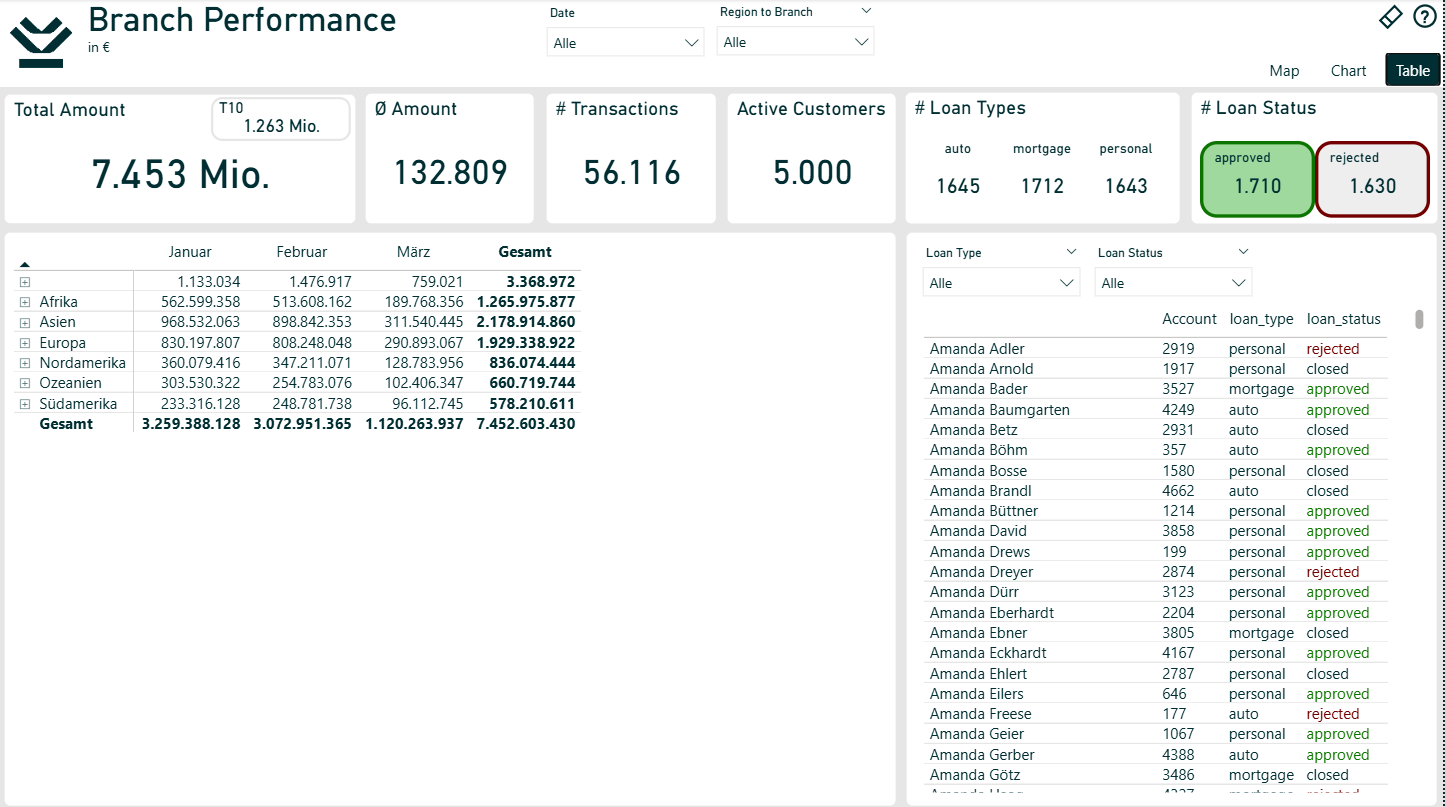

What the dashboard file says about the page in this screenshot:
{"tool":"powerbi","page":{"name":"Branch Performance","canvas":[1280,720],"ordinal":0},"visuals":[{"type":"textbox","box":[800.2,202.5,479.8,517.6],"z":0},{"type":"textbox","title":"Branch Performance","box":[73.6,0,1206.8,78],"z":1000},{"type":"actionButton","box":[1219.4,1,30.3,30.3],"z":2000},{"type":"slicer","fields":{"Values":["Date.Year","Date.Month"]},"box":[480.5,1,150.4,54.5],"z":3000},{"type":"slicer","fields":{"Values":["dim_branches.region","dim_branches.country","dim_branches.city","dim_branches.branch"]},"box":[630.9,0,150.4,55.5],"z":4000},{"type":"card","title":"Total Amount","fields":{"Values":["Sum(stg_transactions.Total Amount EUR)"]},"box":[0,80.1,320.5,124.3],"z":5000},{"type":"card","title":"# Transactions","fields":{"Values":["stg_transactions.TRACount"]},"box":[480.8,79.1,160.3,125.3],"z":6000},{"type":"card","title":"Ø Amount","fields":{"Values":["stg_transactions.AVG_TRA"]},"box":[320.5,79.1,159.2,125.3],"z":7000},{"type":"card","title":"Active Customers","fields":{"Values":["CountNonNull(stg_customers.customer_id)"]},"box":[641,79.1,159.2,125.3],"z":8000},{"type":"tableEx","title":"Branch Comparison","fields":{"Values":["dim_customers.customer","dim_accounts.account_id","dim_loans.loan_type","dim_loans.loan_status"]},"box":[813.8,269.2,454.9,439.4],"z":11000},{"type":"bookmarkNavigator","box":[1116.2,48,163.8,29.9],"z":12000},{"type":"textbox","title":"# Loan Types","box":[799.2,78,253,125.9],"z":12500,"group":"g1"},{"type":"card","title":"personal","fields":{"Values":["dim_loans.LoanTypeAuto"]},"box":[962.2,125.8,74.5,68],"z":13000,"group":"g1"},{"type":"pivotTable","title":"Time Trend","fields":{"Values":["Sum(stg_transactions.Total Amount EUR)"],"Columns":["dim_date.Month"],"Rows":["dim_branches.region","dim_branches.branch","stg_customers.customer","stg_transactions.account_id"]},"box":[0,202.5,800.2,517.6],"z":13000},{"type":"card","title":"auto","fields":{"Values":["dim_loans.LoanTypeAuto"]},"box":[813.3,125.8,74.5,68],"z":14000,"group":"g1"},{"type":"textbox","title":"# Loan Status","box":[1052.2,78,227.8,125.9],"z":14000},{"type":"card","title":"mortgage","fields":{"Values":["dim_loans.LoanTypeAuto"]},"box":[887.7,125.8,74.5,68],"z":15000,"group":"g1"},{"type":"card","title":"approved","fields":{"Values":["CountNonNull(dim_loans.loan_status)"]},"box":[1064.8,125.9,101.9,68],"z":15000},{"type":"group","id":"g1","title":"Gruppe 1","box":[799.2,78,253,125.9],"z":16000},{"type":"card","title":"rejected","fields":{"Values":["CountNonNull(dim_loans.loan_status)"]},"box":[1166.7,125.9,101.9,68],"z":17000},{"type":"image","box":[0,0,73.6,78],"z":18000},{"type":"card","title":"T10","fields":{"Values":["Sum(stg_transactions.Total Amount EUR)"]},"box":[188.2,86.9,124.4,38.5],"z":19000},{"type":"actionButton","box":[1249.7,0,30.3,30.3],"z":21000},{"type":"slicer","fields":{"Values":["dim_loans.loan_type"]},"box":[813.8,213.5,149.6,55.7],"z":22000},{"type":"slicer","fields":{"Values":["dim_loans.loan_status"]},"box":[966.4,213.5,149.6,55.7],"z":23000}]}

Visuals, with their boxes in screenshot pixels (x1, y1, x2, y2), scaled from the page's 1280x720 canvas onto the 1445x807 screenshot:
textbox: rect(903, 227, 1444, 806)
"Branch Performance" textbox: rect(83, 0, 1444, 87)
actionButton: rect(1377, 1, 1411, 35)
slicer - Date.Year x Date.Month: rect(542, 1, 712, 62)
slicer - dim_branches.region x dim_branches.country: rect(712, 0, 882, 62)
"Total Amount" card: rect(0, 90, 362, 229)
"# Transactions" card: rect(543, 89, 724, 229)
"Ø Amount" card: rect(362, 89, 542, 229)
"Active Customers" card: rect(724, 89, 903, 229)
"Branch Comparison" tableEx: rect(919, 302, 1432, 794)
bookmarkNavigator: rect(1260, 54, 1444, 87)
"# Loan Types" textbox: rect(902, 87, 1188, 229)
"personal" card: rect(1086, 141, 1170, 217)
"Time Trend" pivotTable: rect(0, 227, 903, 806)
"auto" card: rect(918, 141, 1002, 217)
"# Loan Status" textbox: rect(1188, 87, 1444, 229)
"mortgage" card: rect(1002, 141, 1086, 217)
"approved" card: rect(1202, 141, 1317, 217)
"Gruppe 1" group: rect(902, 87, 1188, 229)
"rejected" card: rect(1317, 141, 1432, 217)
image: rect(0, 0, 83, 87)
"T10" card: rect(212, 97, 353, 141)
actionButton: rect(1411, 0, 1444, 34)
slicer - dim_loans.loan_type: rect(919, 239, 1088, 302)
slicer - dim_loans.loan_status: rect(1091, 239, 1260, 302)
